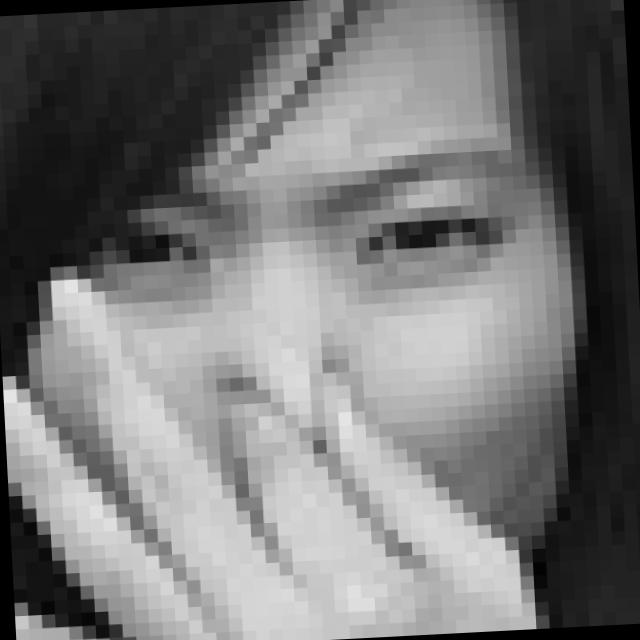disgust: (92, 142, 555, 640)
